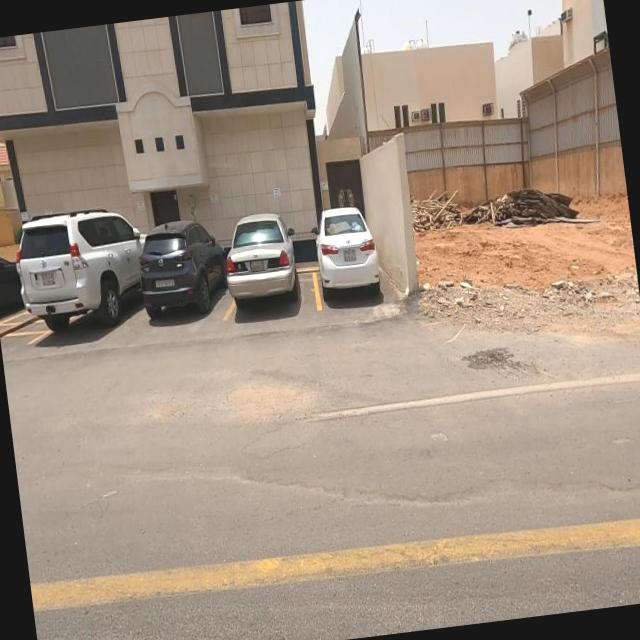debris: (391, 223, 507, 359), (462, 156, 554, 266), (512, 146, 594, 256), (415, 160, 483, 262), (390, 165, 448, 252)
